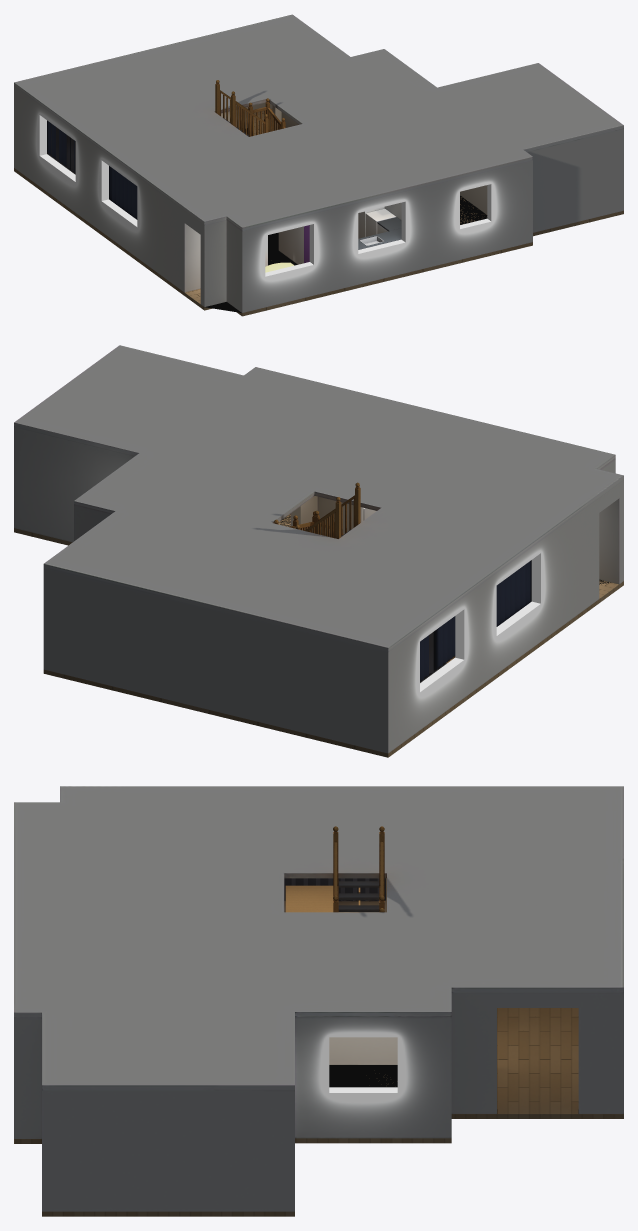
The model's file is RobotHouse_GroundFloor.fbx.
The picture shows the model from 3 angles, top to bottom: view 1: azimuth 30°, elevation 25°; view 2: azimuth 150°, elevation 25°; view 3: azimuth 270°, elevation 25°; orthographic projection. The views are drawn at different scales.
Visible parts, largest first — view 1: ARCH_Ceiling, ARCH_Walls, ARCH_Floor, L_Curtain_A, L_Curtain_B, STAIR_Spindles, K_Worktop, STAIR_Newels, K_Cooker; view 2: ARCH_Ceiling, ARCH_Walls, ARCH_Floor, L_Curtain_A, L_Curtain_B, STAIR_Newels, STAIR_Spindles; view 3: ARCH_Ceiling, ARCH_Walls, ARCH_Floor, D_Table, L_Curtain_A, STAIR_Treads, STAIR_Newels.
Boxes of the visible parts, bbox=[...] form: ARCH_Ceiling: bbox=[14, 14, 623, 230]; ARCH_Walls: bbox=[14, 86, 623, 312]; ARCH_Floor: bbox=[14, 108, 623, 316]; L_Curtain_A: bbox=[109, 166, 137, 219]; L_Curtain_B: bbox=[47, 120, 75, 173]; STAIR_Spindles: bbox=[220, 92, 280, 136]; K_Worktop: bbox=[358, 217, 401, 249]; STAIR_Newels: bbox=[215, 80, 285, 136]; K_Cooker: bbox=[365, 208, 395, 236]; ARCH_Ceiling: bbox=[14, 345, 623, 651]; ARCH_Walls: bbox=[14, 427, 623, 753]; ARCH_Floor: bbox=[14, 514, 623, 757]; L_Curtain_A: bbox=[496, 560, 531, 626]; L_Curtain_B: bbox=[420, 616, 455, 681]; STAIR_Newels: bbox=[274, 482, 360, 538]; STAIR_Spindles: bbox=[299, 498, 354, 538]; ARCH_Ceiling: bbox=[14, 786, 623, 1090]; ARCH_Walls: bbox=[14, 878, 623, 1211]; ARCH_Floor: bbox=[14, 1008, 623, 1216]; D_Table: bbox=[285, 885, 333, 912]; L_Curtain_A: bbox=[284, 878, 385, 901]; STAIR_Treads: bbox=[338, 881, 379, 911]; STAIR_Newels: bbox=[333, 826, 384, 912].
Size of the model in its own units: 12.68 by 3.55 by 10.94.
41 materials, 39 textured.
